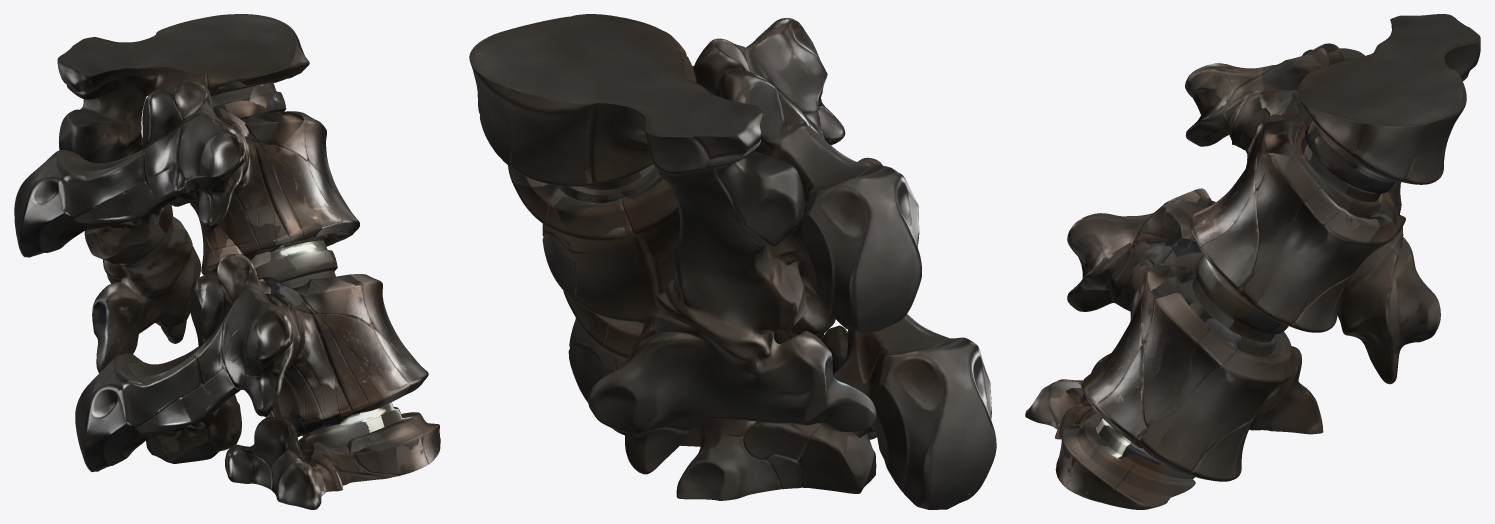
Rendered from desktop.glb.
3 renders of one model, left to right at view 1: azimuth 30°, elevation 25°; view 2: azimuth 150°, elevation 25°; view 3: azimuth 270°, elevation 25°, orthographic. The views are drawn at different scales.
Parts seen in each view (by area): view 1: tripo_node_14edf788-3b34-4d63-ac44-ec0509f64d49; view 2: tripo_node_14edf788-3b34-4d63-ac44-ec0509f64d49; view 3: tripo_node_14edf788-3b34-4d63-ac44-ec0509f64d49.
Part boxes in pixels (<box>): tripo_node_14edf788-3b34-4d63-ac44-ec0509f64d49: <box>14,14,440,509</box>; tripo_node_14edf788-3b34-4d63-ac44-ec0509f64d49: <box>469,14,996,509</box>; tripo_node_14edf788-3b34-4d63-ac44-ec0509f64d49: <box>1025,14,1480,509</box>.
Bounding box in the file's own units: 0.9064 × 0.8823 × 0.9826.
Materials: 1 (1 with a texture image).
